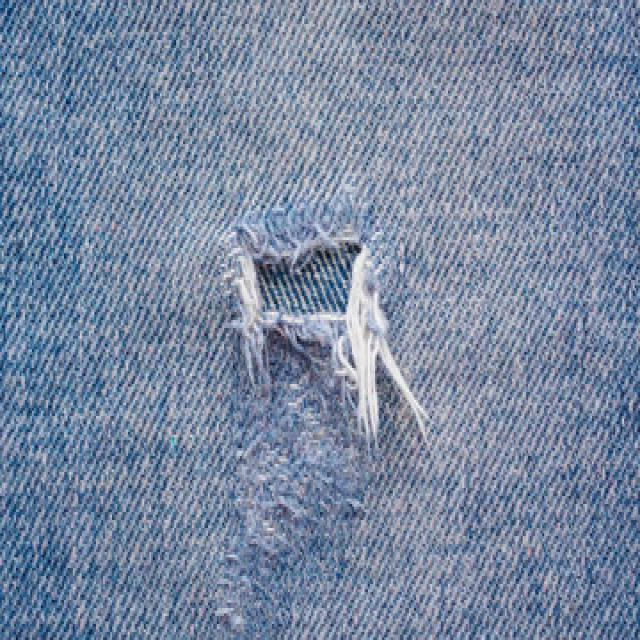Hole: (213, 375, 375, 640), (237, 215, 425, 430)
